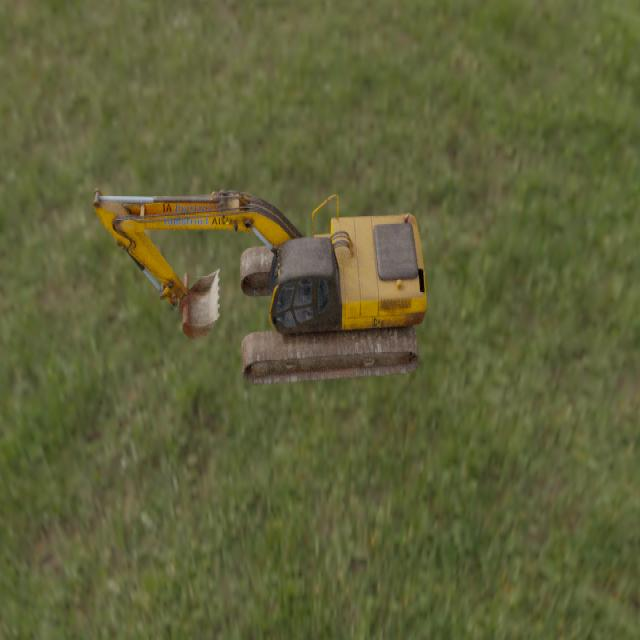excavator: (92, 188, 427, 385)
